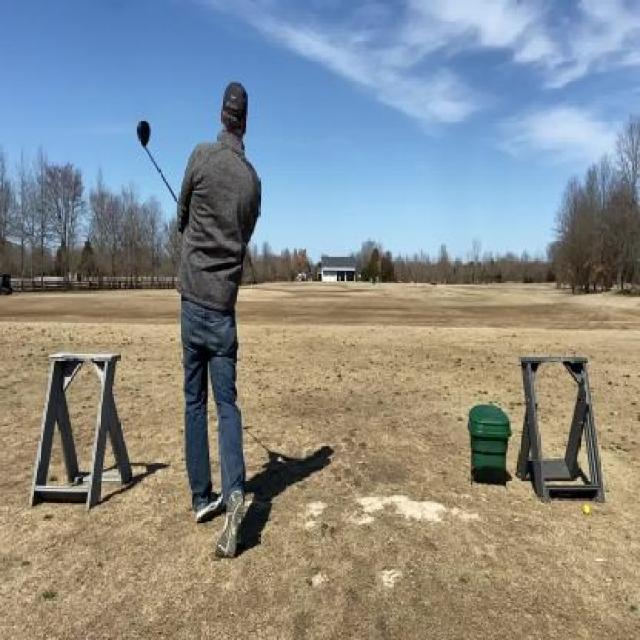club head: (136, 118, 150, 156)
